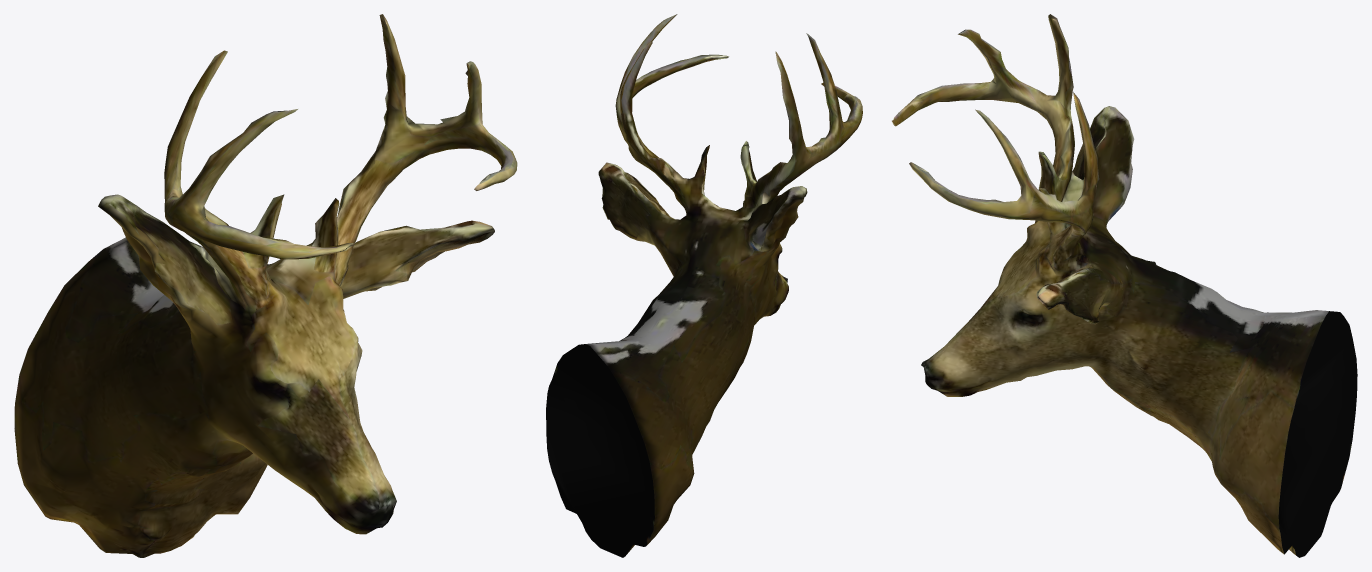
The model's file is s_cabeza_ciervo.glb.
The picture shows the model from 3 angles, left to right: view 1: azimuth 30°, elevation 25°; view 2: azimuth 150°, elevation 25°; view 3: azimuth 270°, elevation 25°; orthographic projection. The views are drawn at different scales.
Parts seen in each view (by area): view 1: Object_2; view 2: Object_2; view 3: Object_2.
Part boxes in pixels (<box>): Object_2: <box>14,14,517,557</box>; Object_2: <box>546,14,862,557</box>; Object_2: <box>892,14,1357,557</box>.
Bounding box in the file's own units: 0.3965 × 0.7 × 0.5865.
Materials: 1 (1 with a texture image).
